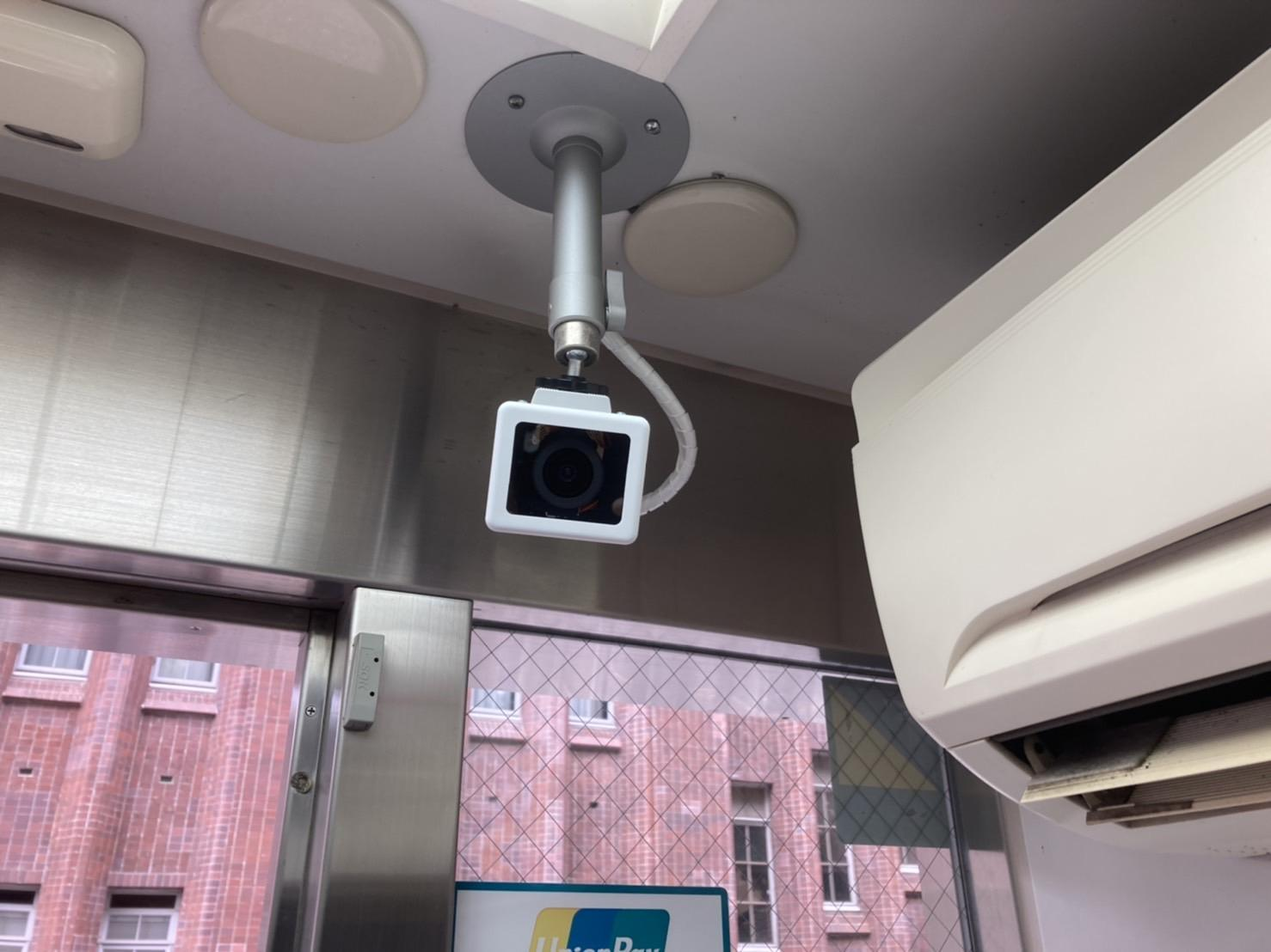tutu: (466, 387, 660, 562)
